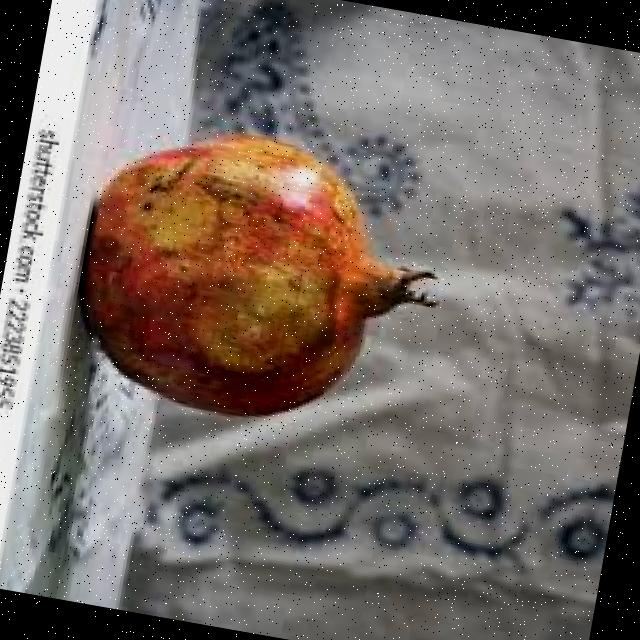overripe: (57, 109, 467, 454)
